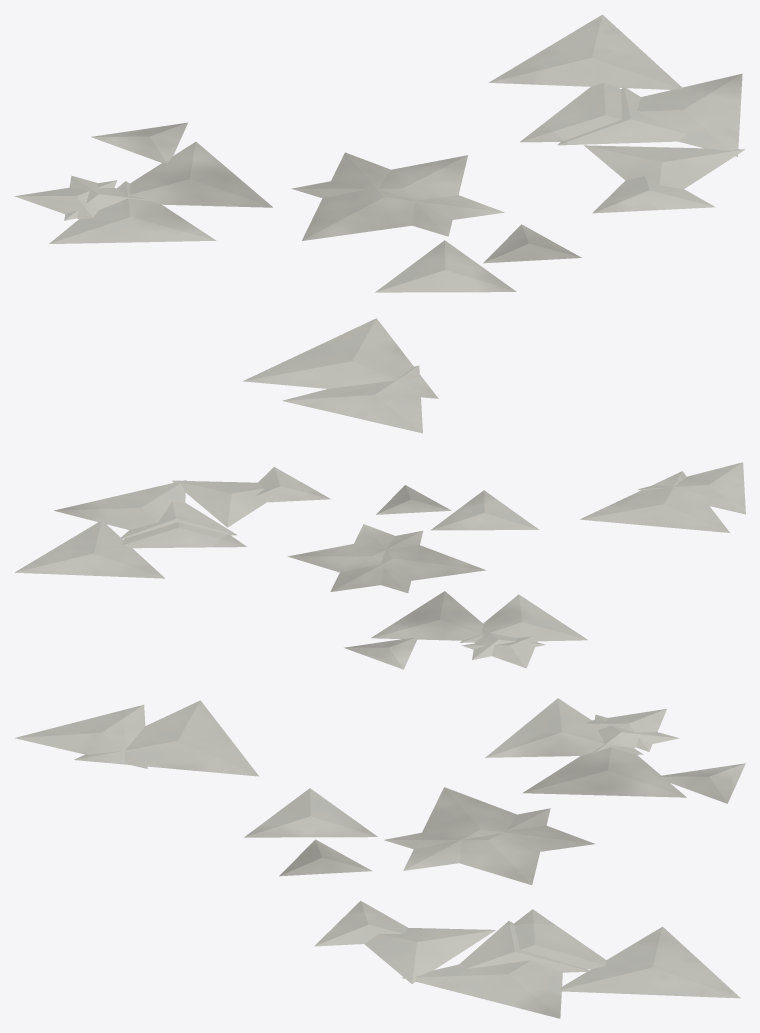
File: D03_glass_shards_v3.glb
The picture shows the model from 3 angles, top to bottom: view 1: azimuth 30°, elevation 25°; view 2: azimuth 150°, elevation 25°; view 3: azimuth 270°, elevation 25°; orthographic projection. The views are drawn at different scales.
Parts seen in each view (by area): view 1: D03_glass_shards_v3; view 2: D03_glass_shards_v3; view 3: D03_glass_shards_v3.
Part boxes in pixels (box(x1,y1,x2,y2)): D03_glass_shards_v3: box(14, 14, 745, 433); D03_glass_shards_v3: box(14, 462, 745, 669); D03_glass_shards_v3: box(14, 698, 745, 1018).
Size of the model in its own units: 0.4 by 0.00271 by 0.3857.
Materials: 1 (1 with a texture image).
